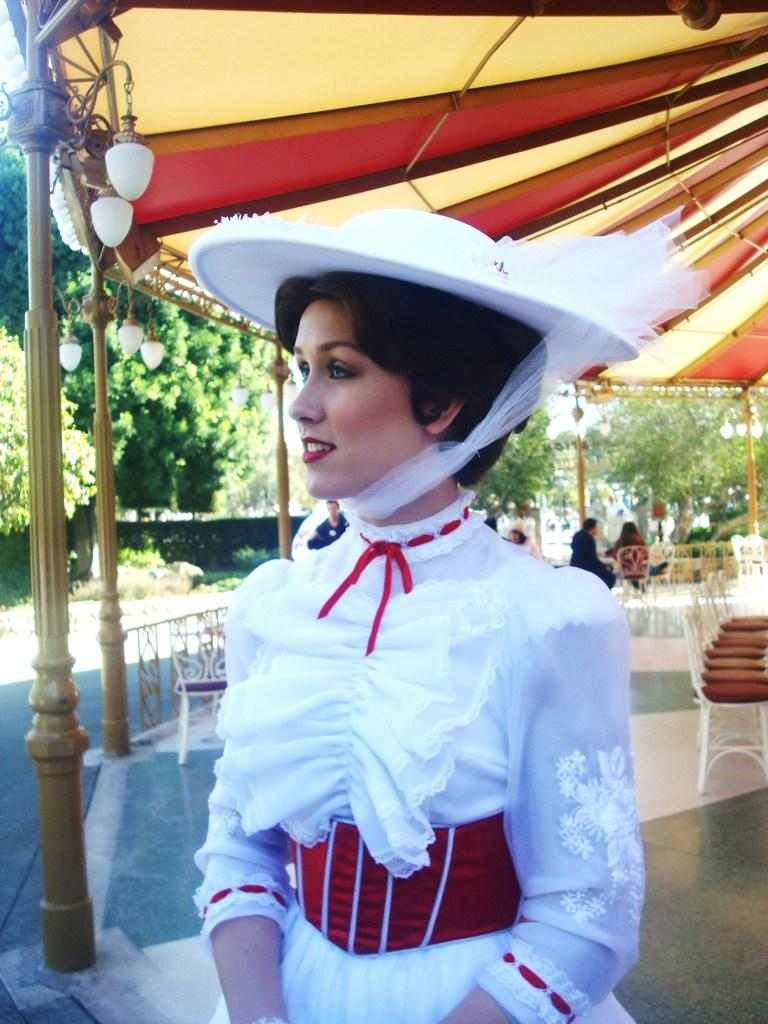Hat: (187, 210, 708, 521)
